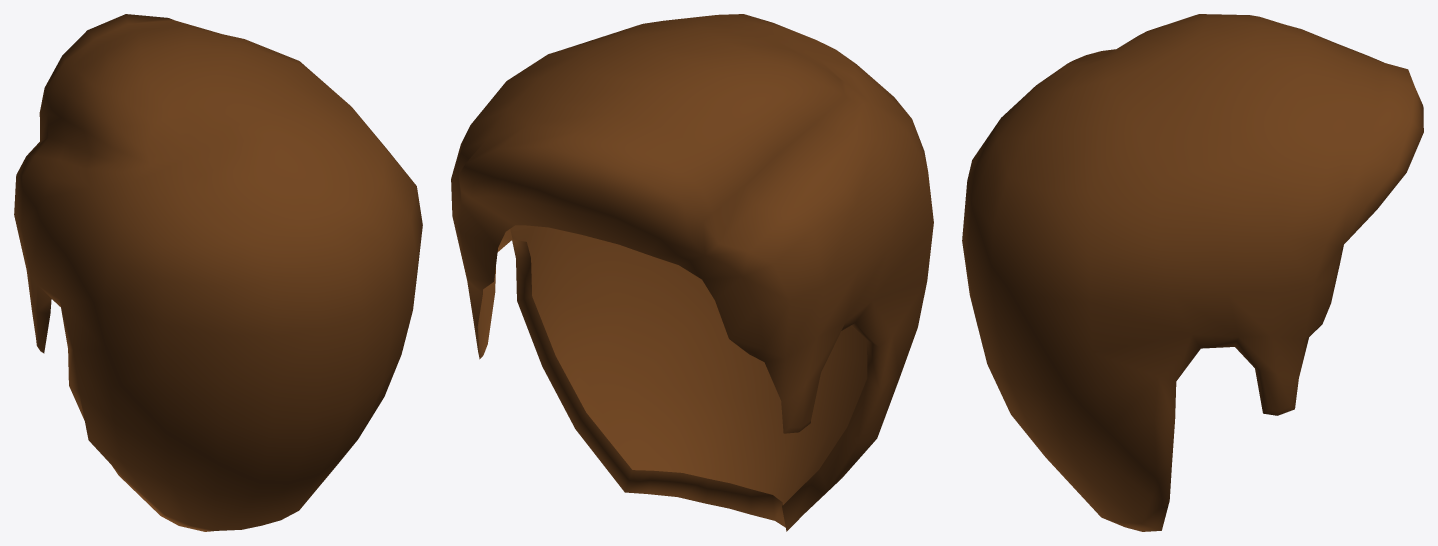
Rendered from Hair_Male_002.glb.
The picture shows the model from 3 angles, left to right: view 1: azimuth 30°, elevation 25°; view 2: azimuth 150°, elevation 25°; view 3: azimuth 270°, elevation 25°; orthographic projection. The views are drawn at different scales.
Visible parts, largest first — view 1: Hair_Male_002; view 2: Hair_Male_002; view 3: Hair_Male_002.
Part boxes in pixels (left/top/right/bottom): Hair_Male_002: left=14, top=14, right=422, bottom=531; Hair_Male_002: left=451, top=14, right=933, bottom=531; Hair_Male_002: left=962, top=14, right=1423, bottom=531.
Bounding box in the file's own units: 0.1882 × 0.2415 × 0.2192.
